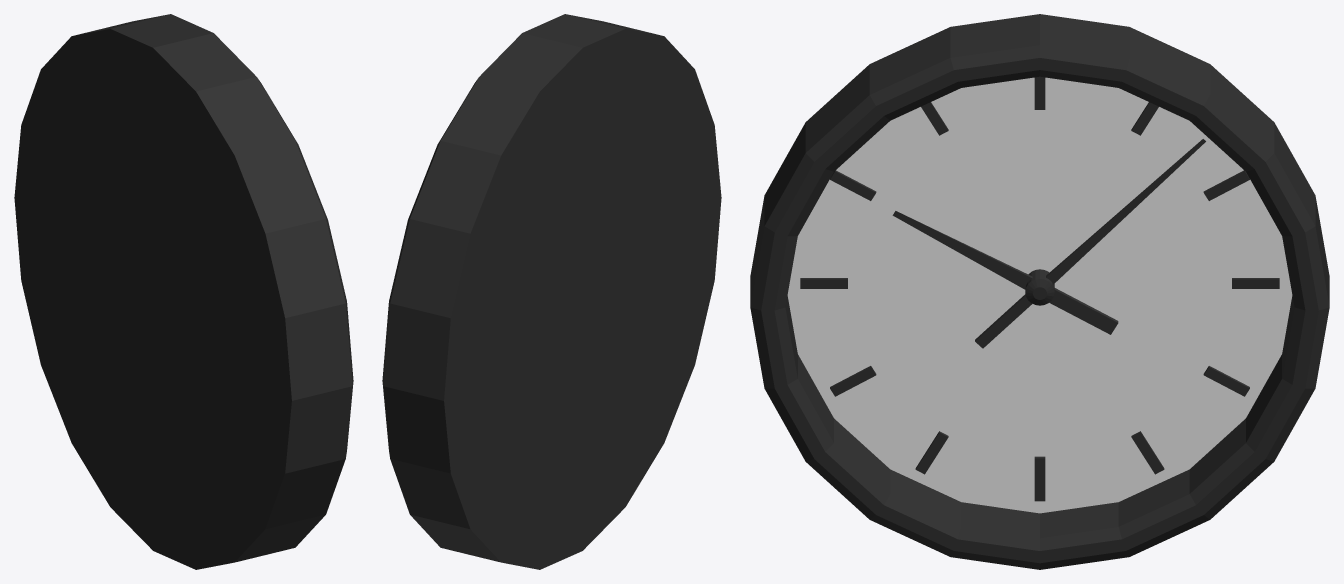
Rendered from jam.glb.
3 views of the same model, side by side, from view 1: azimuth 30°, elevation 25°; view 2: azimuth 150°, elevation 25°; view 3: azimuth 270°, elevation 25° (orthographic). The views are drawn at different scales.
Visible parts, largest first — view 1: Analog_Cock; view 2: Analog_Cock; view 3: Analog_Cock.
Boxes of the visible parts, x1=… form: Analog_Cock: x1=14, y1=14, x2=353, y2=569; Analog_Cock: x1=382, y1=14, x2=721, y2=569; Analog_Cock: x1=750, y1=14, x2=1329, y2=569.
Size of the model in its own units: 3.84 by 27.65 by 27.65.
Materials: 1 (1 with a texture image).
